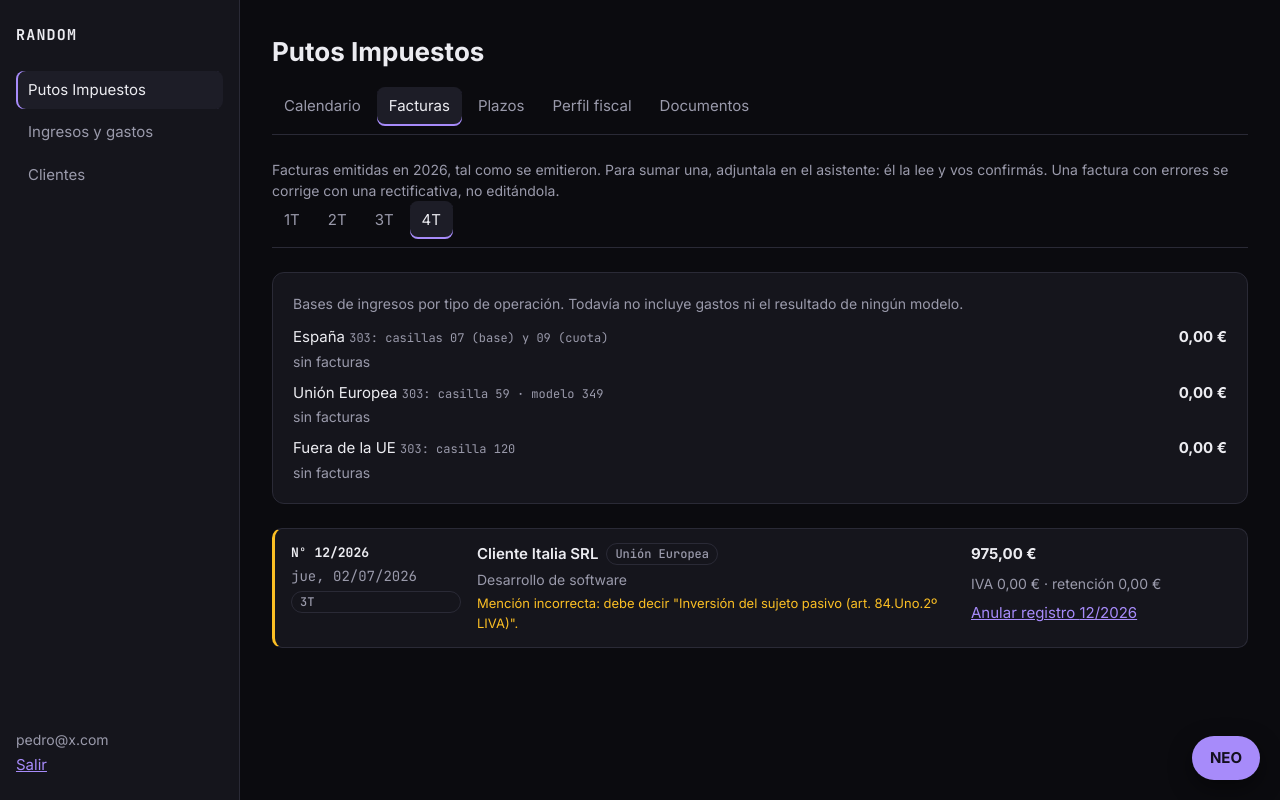
Scenario: facturas › anular pide confirmación y recarga la lista
Step 1. Click the button "Anular registro 12/2026" → (1054, 613), box left=971, top=602, right=1137, bottom=624
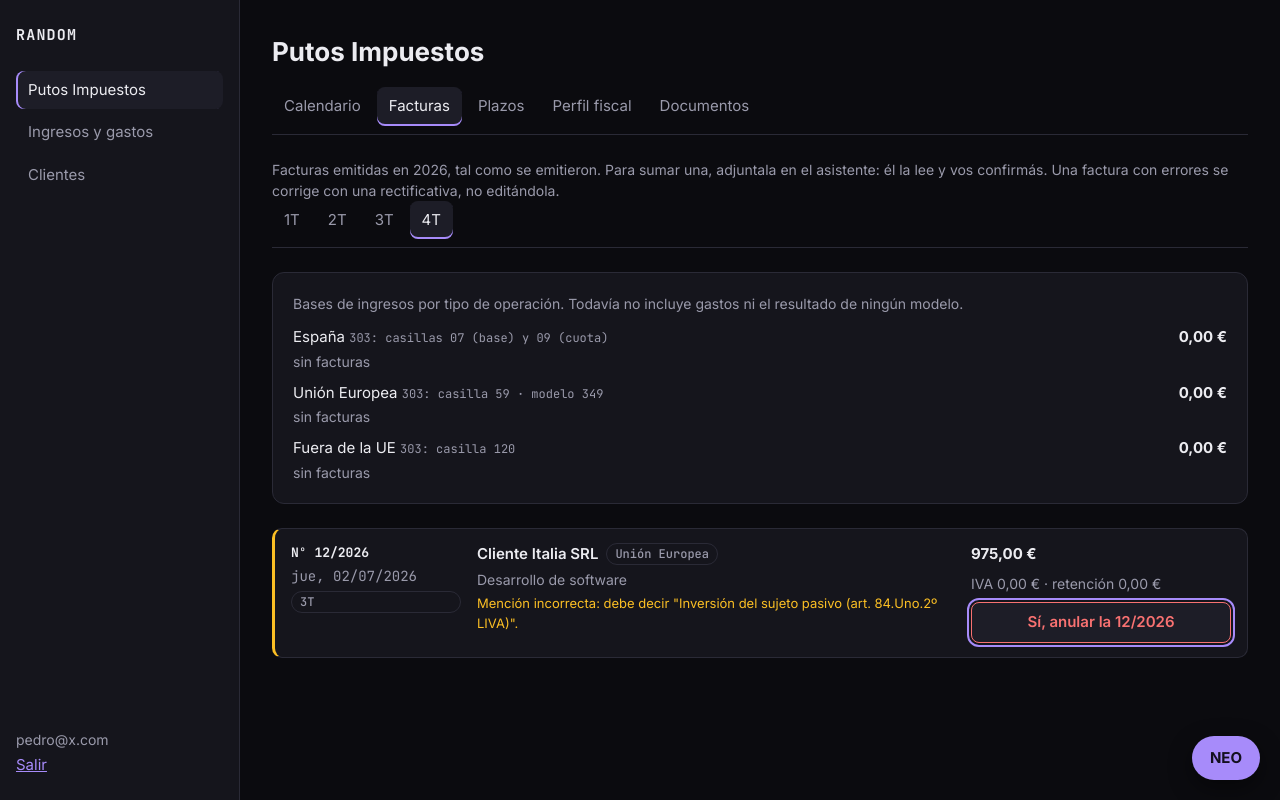
Step 2. Click the button "Sí, anular la 12/2026" → (1101, 622), box left=971, top=602, right=1231, bottom=642
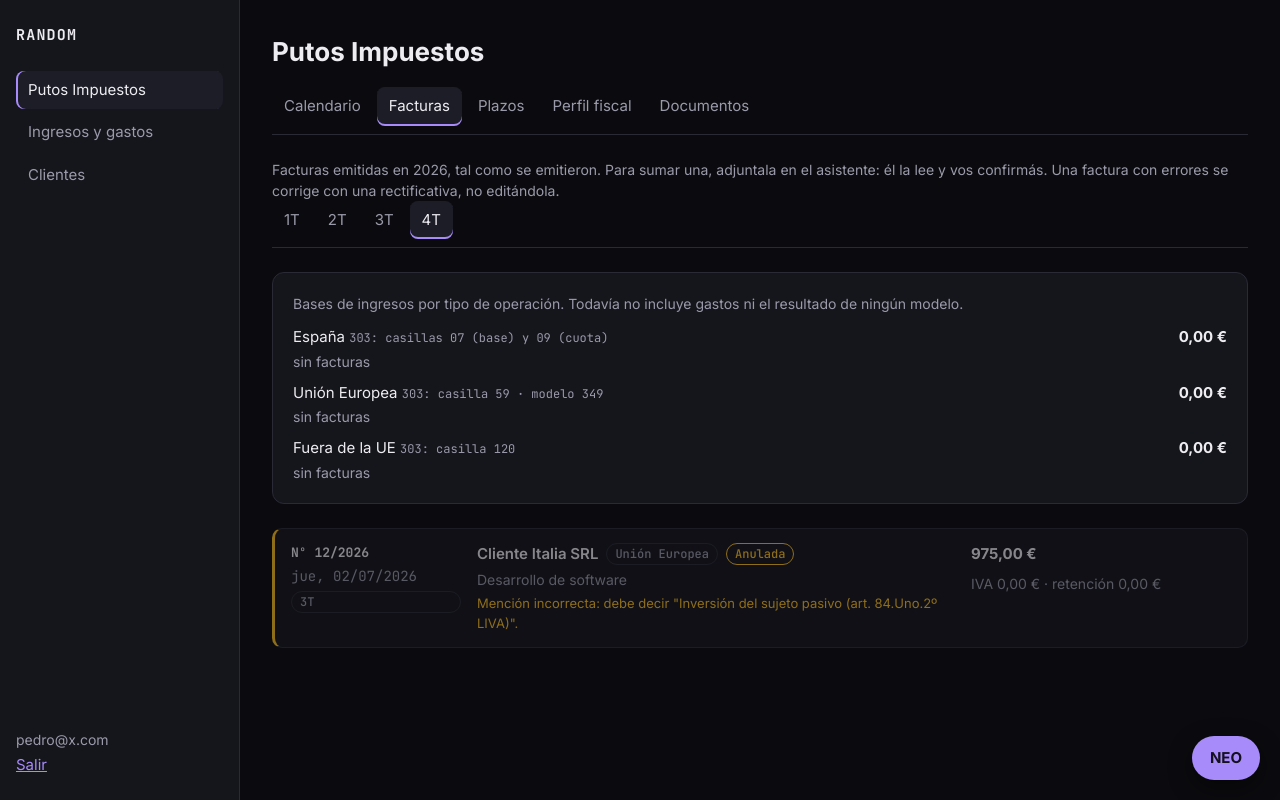
Expected: the button "Anular registro" is not shown
Now the text "Anulada" is shown, box left=726, top=543, right=794, bottom=565
